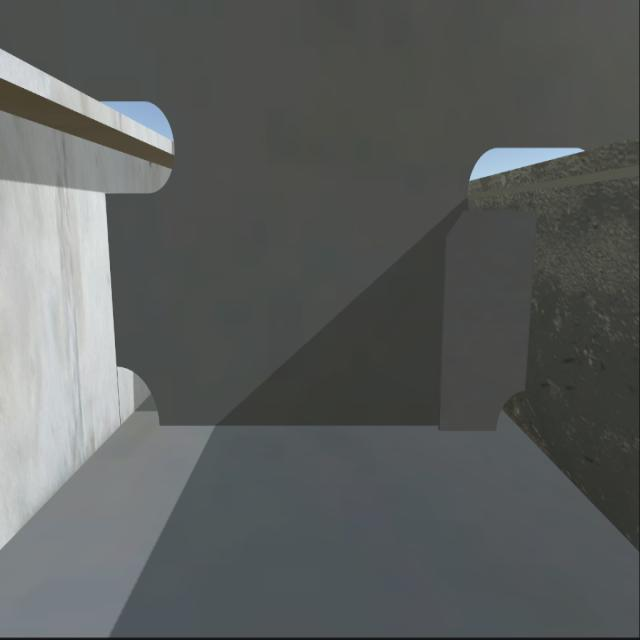fillet_hole: (116, 363, 164, 426), (494, 399, 522, 438)
fillet_yong_jeop_jang: (156, 424, 490, 428)
longi_yong_jeop_jang: (520, 219, 538, 389), (101, 194, 115, 366)
plate_CP03: (442, 211, 536, 434)
